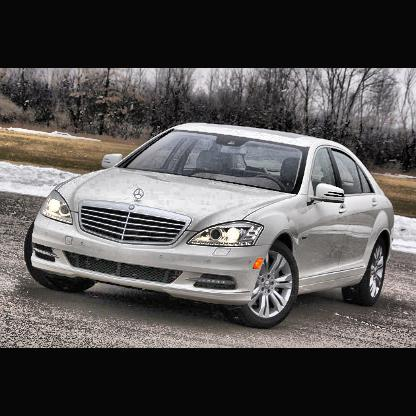Mercedes-Benz S-Class Sedan 2012: (24, 122, 397, 330)
